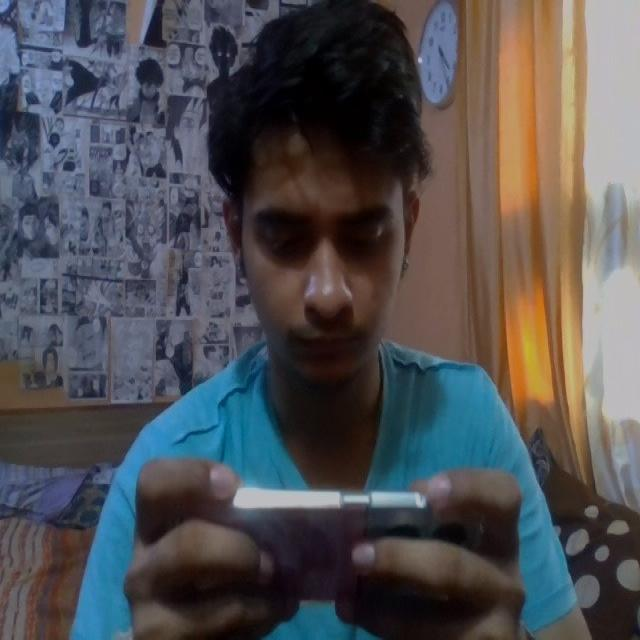phone: (193, 487, 496, 617)
using-phone: (62, 10, 594, 640)
